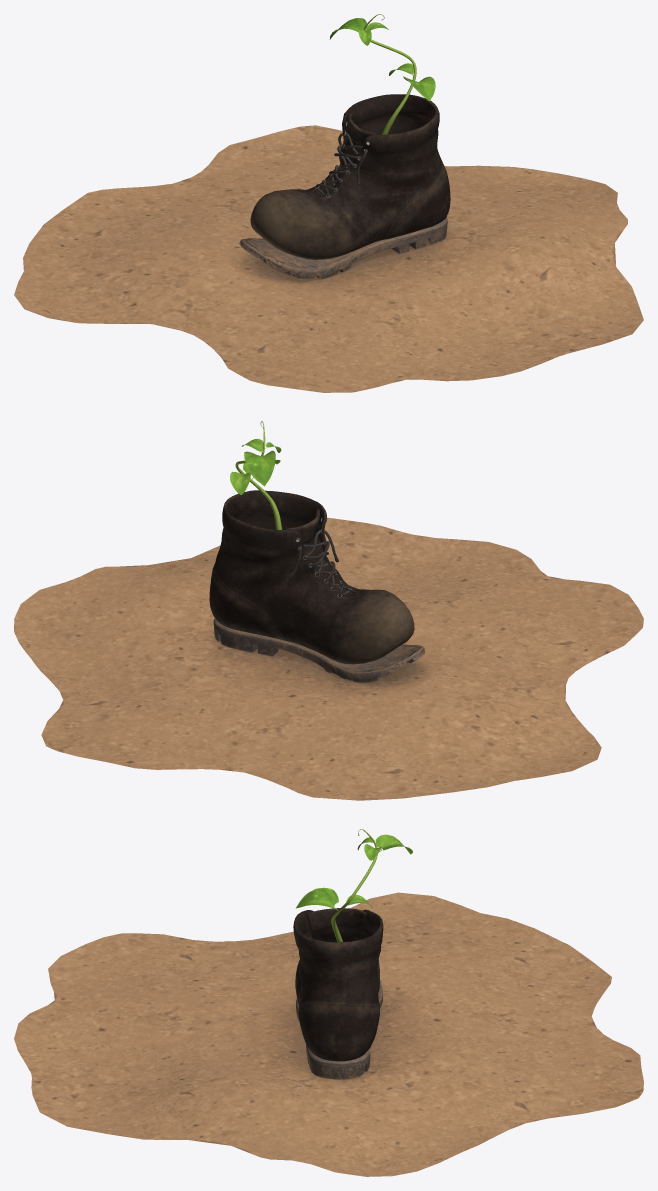
File: walle_boot_cropped.glb
3 renders of one model, top to bottom at view 1: azimuth 30°, elevation 25°; view 2: azimuth 150°, elevation 25°; view 3: azimuth 270°, elevation 25°, orthographic. The views are drawn at different scales.
Visible parts, largest first — view 1: wall-e boot plants_uv_checker_material_uv_grid_2048x2048_0; view 2: wall-e boot plants_uv_checker_material_uv_grid_2048x2048_0; view 3: wall-e boot plants_uv_checker_material_uv_grid_2048x2048_0.
Part boxes in pixels (x1,y1,x2,y2): wall-e boot plants_uv_checker_material_uv_grid_2048x2048_0: (14, 14, 643, 392); wall-e boot plants_uv_checker_material_uv_grid_2048x2048_0: (14, 421, 643, 800); wall-e boot plants_uv_checker_material_uv_grid_2048x2048_0: (14, 829, 643, 1176).
Size of the model in its own units: 0.8454 by 0.3365 by 0.7951.
Materials: 1 (1 with a texture image).
